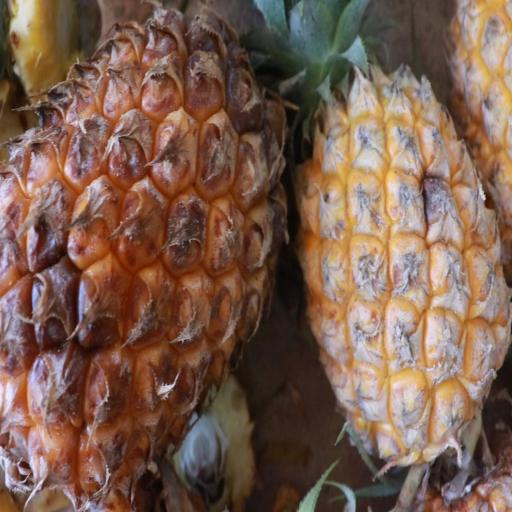Pineapple - v8 v1: (0, 0, 295, 501), (290, 3, 512, 481)
